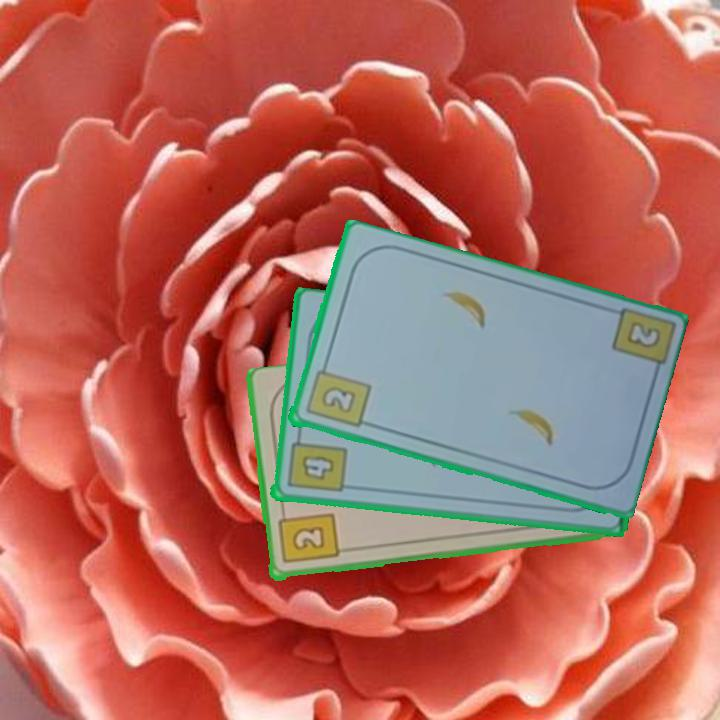2b: (302, 358, 373, 431), (275, 506, 340, 567), (622, 318, 664, 352)
4b: (283, 429, 348, 496)
